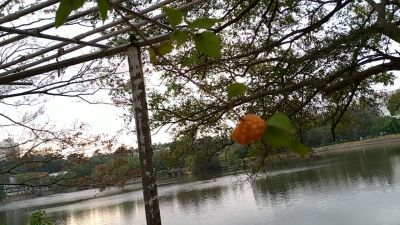eggs: (233, 113, 267, 144)
